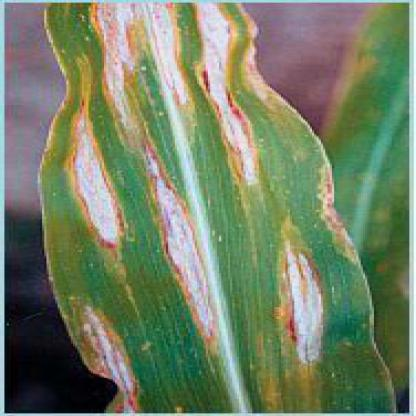corn leaf blight: (27, 1, 403, 415)
